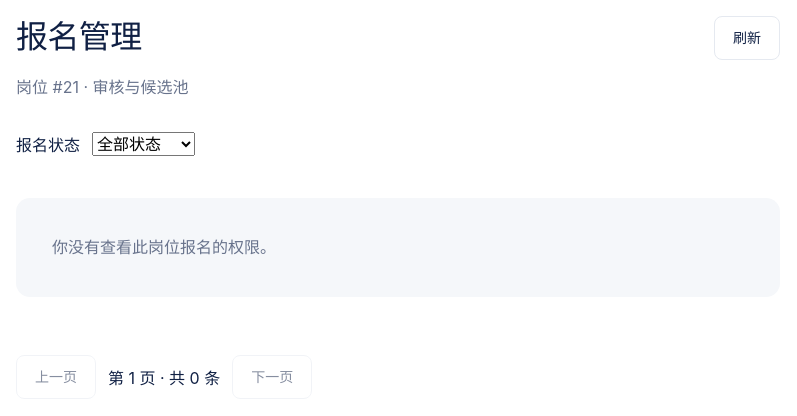
Scenario: RegistrationManagementView › retries errors and displays empty state
The image size is (797, 416).
Expected: the message "你没有查看此岗位报名的权限。" is shown, x1=16 y1=198 x2=780 y2=297
Click the button with test id "refresh" at x=747, y=38, box x1=714 y1=16 x2=780 y2=60
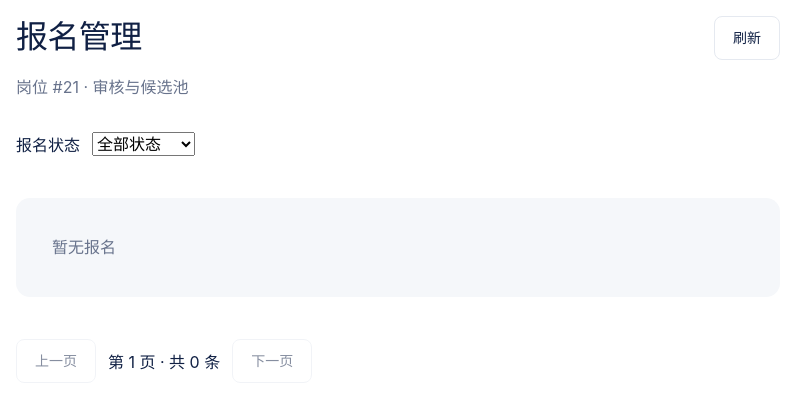
Expected: the text "暂无报名" is shown, x1=16 y1=198 x2=780 y2=297
